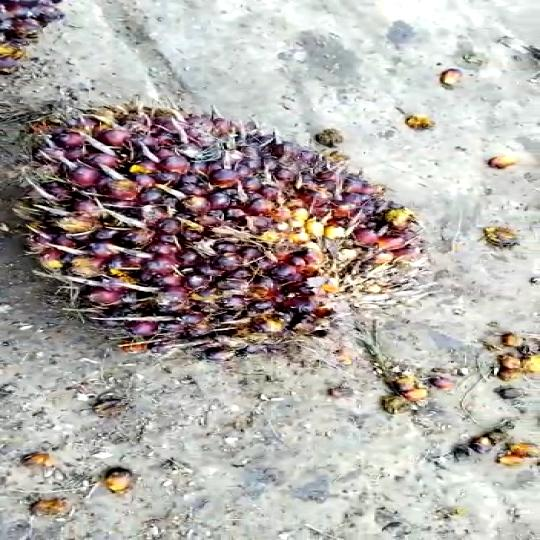kurang masak: (0, 93, 420, 346)
